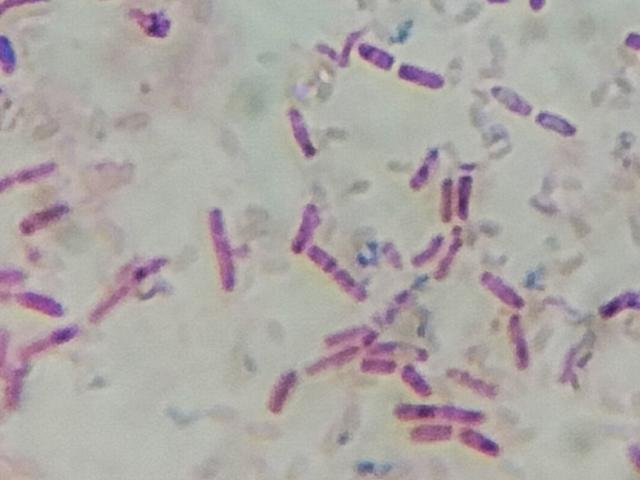E. coli: (95, 256, 171, 313), (416, 425, 503, 455), (208, 205, 239, 289), (312, 245, 363, 296), (0, 157, 63, 197), (23, 320, 87, 359), (389, 57, 446, 94), (395, 400, 489, 421), (15, 199, 74, 231), (286, 107, 320, 159), (363, 359, 425, 387), (268, 365, 298, 418), (0, 24, 28, 80), (481, 267, 522, 305), (2, 283, 56, 310), (506, 317, 533, 371), (373, 337, 430, 362), (536, 103, 575, 139), (602, 285, 640, 320), (3, 365, 30, 414), (488, 79, 522, 117), (352, 35, 393, 66), (295, 199, 320, 246), (458, 170, 481, 218), (412, 143, 440, 182), (441, 233, 463, 278), (418, 232, 440, 274), (436, 176, 456, 222), (619, 27, 640, 66), (316, 346, 357, 365), (325, 323, 371, 339)
